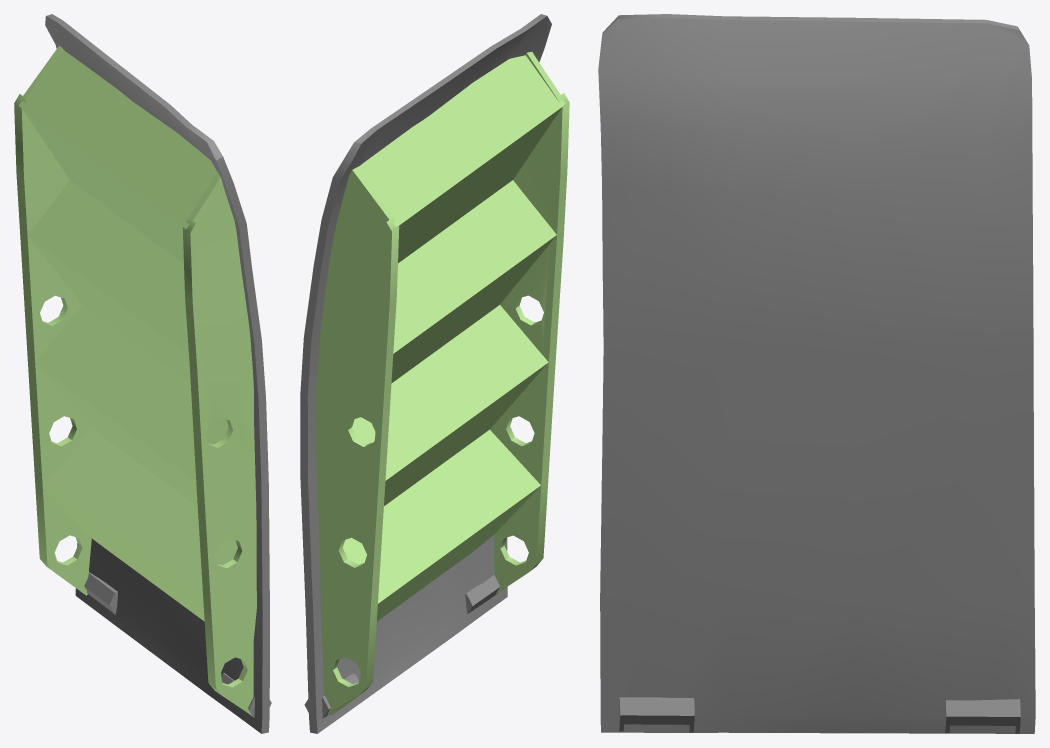
Rendered from AC313_feijimen_03.FBX.
The picture shows the model from 3 angles, left to right: view 1: azimuth 30°, elevation 25°; view 2: azimuth 150°, elevation 25°; view 3: azimuth 270°, elevation 25°; orthographic projection. The views are drawn at different scales.
Visible parts, largest first — view 1: AC313_feijimen_03; view 2: AC313_feijimen_03; view 3: AC313_feijimen_03.
Part boxes in pixels (left/top/right/bottom): AC313_feijimen_03: left=14, top=14, right=271, bottom=733; AC313_feijimen_03: left=300, top=14, right=569, bottom=733; AC313_feijimen_03: left=598, top=14, right=1035, bottom=733.
Size of what is drawn, in the model's own units: 0.2664 by 0.9987 by 1.73.
